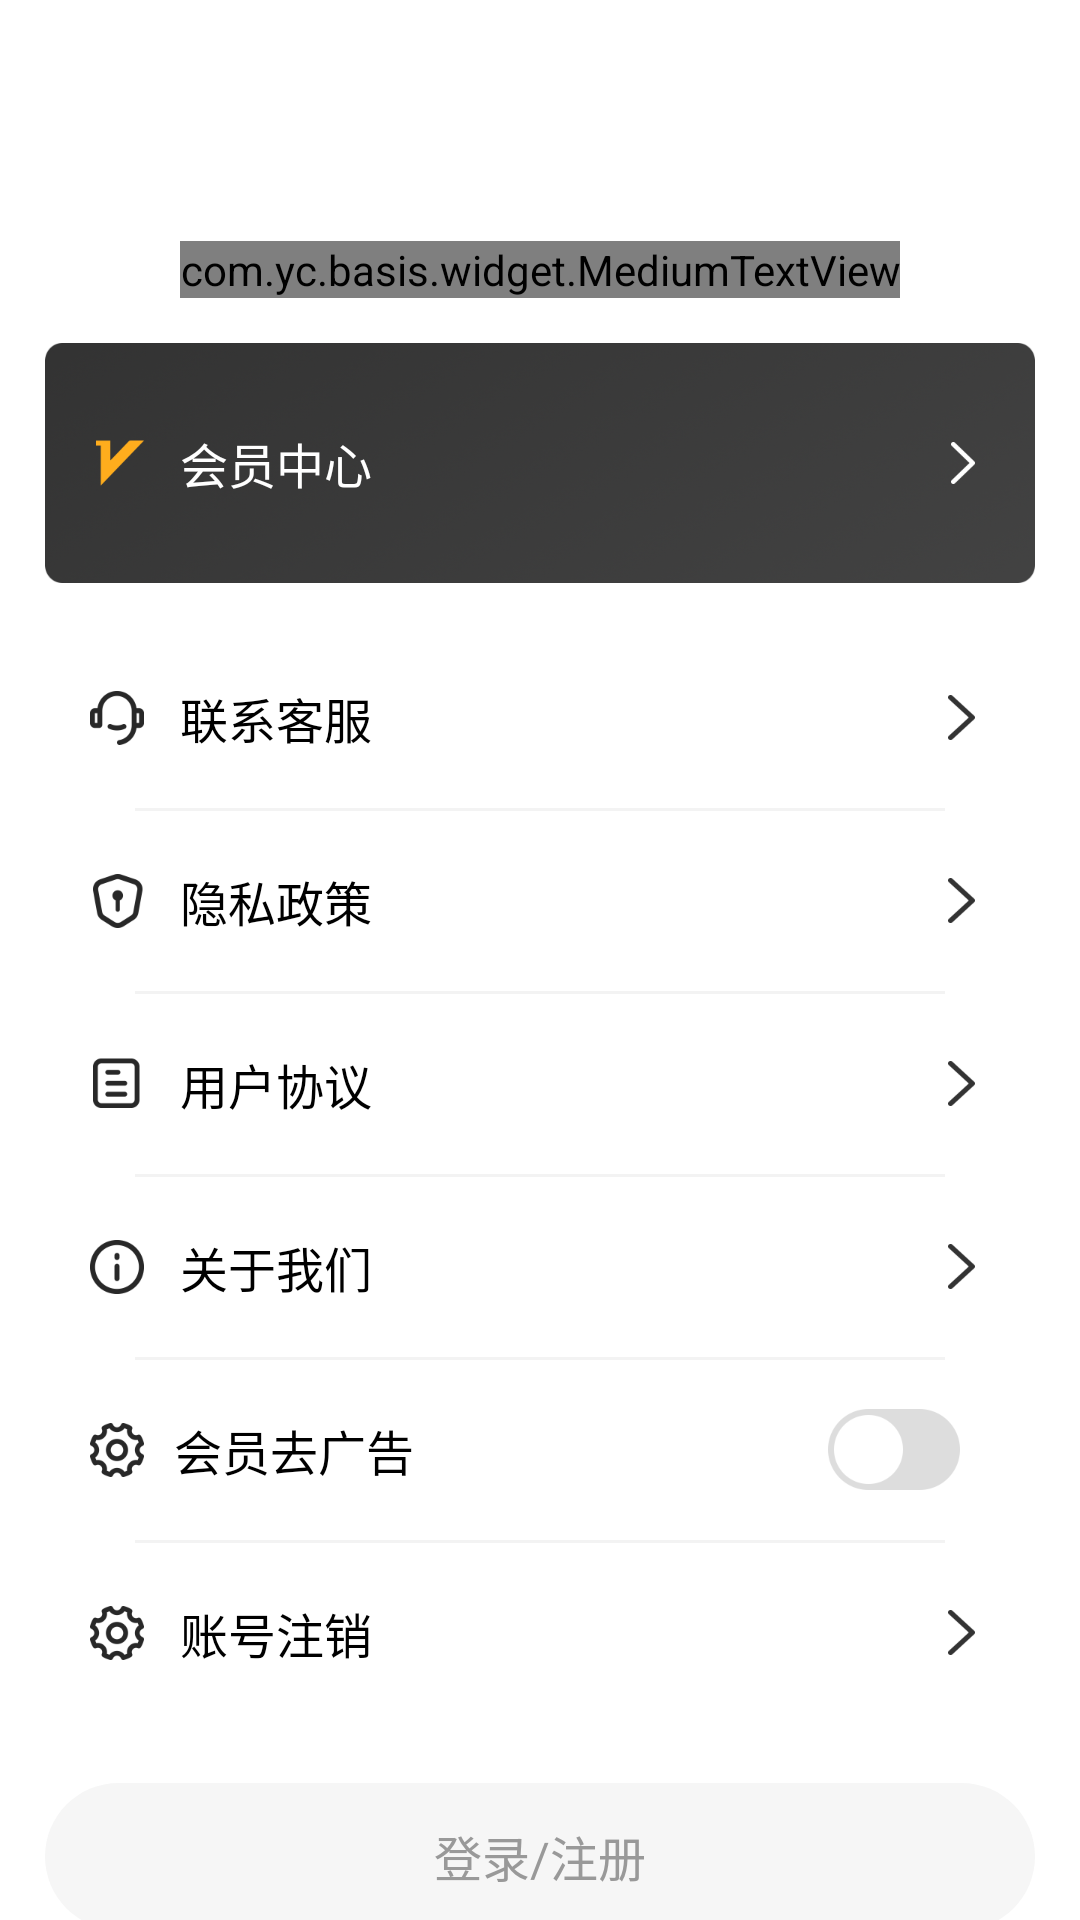

Where icons sit on this 1080px x 1920px app screen, as (x1, y1, x2, y2):
me vip kg: (828, 1409, 960, 1490)
